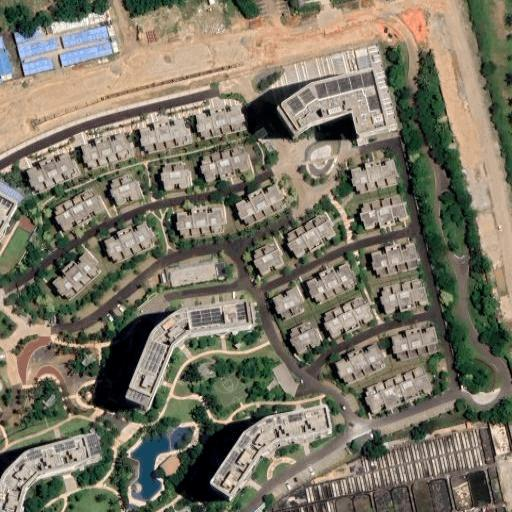building: (214, 412, 334, 503), (276, 75, 388, 145), (363, 366, 432, 413), (126, 342, 173, 411), (41, 434, 109, 474), (51, 253, 101, 302), (234, 184, 289, 227), (284, 213, 336, 258), (188, 304, 255, 338), (323, 296, 375, 339), (336, 343, 386, 385), (308, 262, 359, 303), (26, 152, 78, 192), (104, 222, 155, 262), (79, 132, 132, 170), (53, 195, 105, 232), (140, 119, 191, 154), (406, 475, 453, 512), (359, 194, 408, 229), (8, 449, 49, 490), (351, 159, 399, 194), (382, 280, 430, 315), (177, 207, 227, 240), (149, 312, 191, 351), (370, 244, 419, 276), (391, 327, 438, 360), (195, 108, 245, 138), (202, 153, 252, 181), (59, 42, 113, 67), (59, 25, 109, 49), (52, 189, 95, 215), (271, 361, 301, 397), (170, 265, 216, 287), (110, 180, 143, 208), (46, 13, 88, 35), (18, 37, 60, 59), (289, 327, 323, 354), (272, 286, 305, 313), (253, 249, 285, 276), (487, 417, 511, 452), (202, 147, 242, 166), (21, 56, 55, 76), (13, 25, 46, 45), (158, 453, 182, 478), (161, 170, 189, 190), (352, 48, 372, 72), (85, 8, 110, 26), (281, 303, 305, 320), (252, 243, 275, 260), (109, 174, 133, 189), (354, 433, 374, 450), (290, 322, 312, 337), (504, 415, 512, 451), (213, 262, 226, 280), (80, 353, 95, 367), (42, 396, 56, 411), (163, 163, 185, 172), (254, 127, 268, 141), (253, 501, 269, 512), (113, 305, 125, 317), (266, 379, 277, 392), (106, 24, 114, 40), (466, 419, 478, 428), (1, 72, 13, 80), (110, 41, 117, 54), (160, 274, 167, 284), (234, 340, 242, 348), (382, 442, 389, 449), (208, 0, 216, 5), (296, 0, 305, 4), (350, 465, 356, 470)
